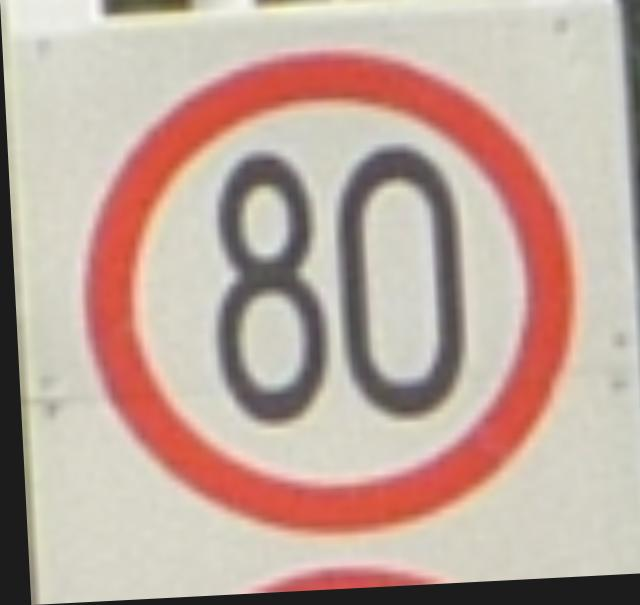limit80: (46, 34, 593, 553)
